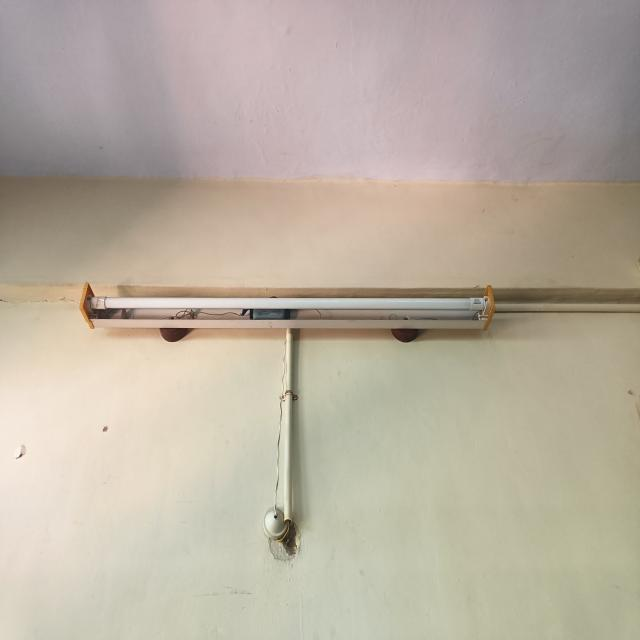tubelight_off: (80, 283, 496, 330)
